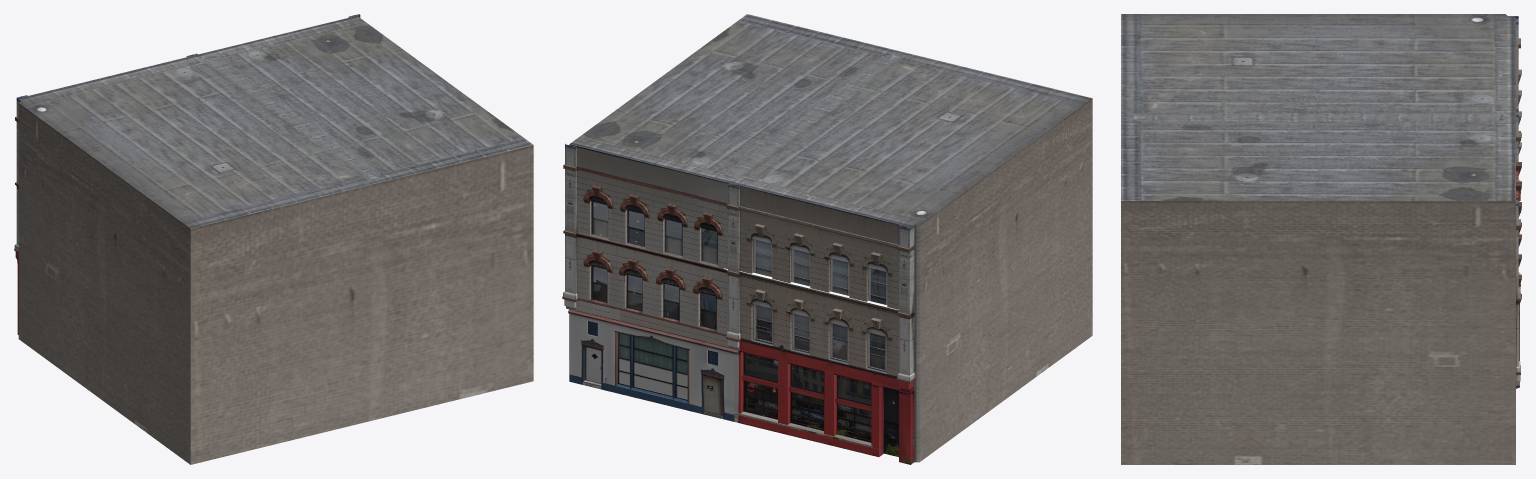
The model's file is Building3gray.fbx.
3 views of the same model, side by side, from view 1: azimuth 30°, elevation 25°; view 2: azimuth 150°, elevation 25°; view 3: azimuth 270°, elevation 25° (orthographic). The views are drawn at different scales.
Visible parts, largest first — view 1: Building; view 2: Building; view 3: Building.
Boxes of the visible parts, box(x1,y1,x2,y2) form: Building: box(14, 14, 533, 464); Building: box(562, 14, 1092, 464); Building: box(1121, 14, 1521, 464).
Bounding box in the file's own units: 4466 × 2897 × 3987.
1 material, 1 textured.
